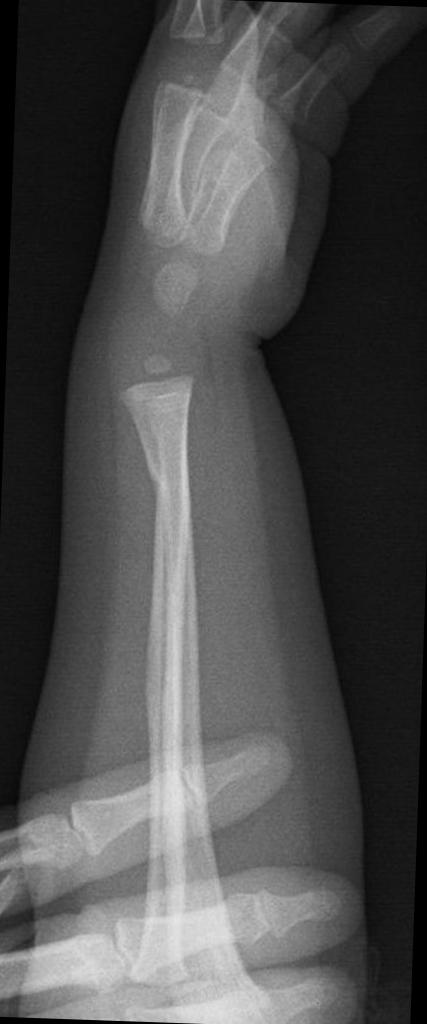line: (145, 464, 168, 498)
